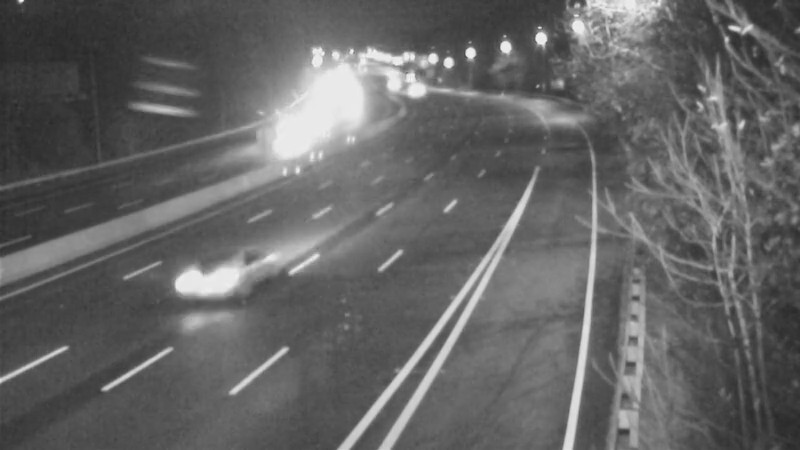vehicle: (172, 231, 252, 311), (371, 60, 421, 110), (389, 63, 439, 113), (264, 108, 314, 158)
